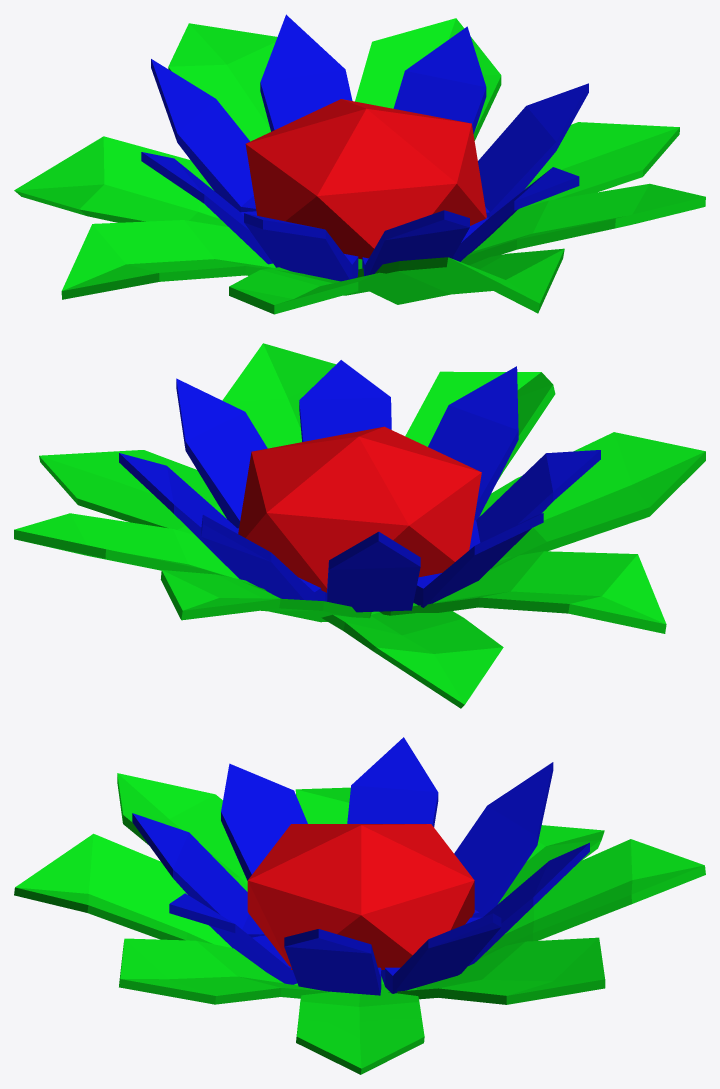
File: SM_WaterLily1.fbx
3 views of the same model, one above another, from view 1: azimuth 30°, elevation 25°; view 2: azimuth 150°, elevation 25°; view 3: azimuth 270°, elevation 25° (orthographic). The views are drawn at different scales.
Parts seen in each view (by area): view 1: SM_WaterLily1; view 2: SM_WaterLily1; view 3: SM_WaterLily1.
Part boxes in pixels (bbox=[...]): SM_WaterLily1: bbox=[14, 14, 705, 314]; SM_WaterLily1: bbox=[14, 343, 705, 708]; SM_WaterLily1: bbox=[14, 737, 705, 1074].
Size of the model in its own units: 22.54 by 6.15 by 22.3.
